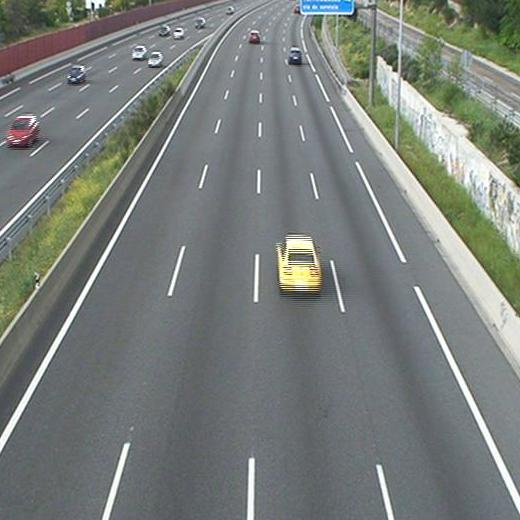car: (278, 235, 320, 291), (288, 48, 301, 62), (249, 31, 261, 43)
